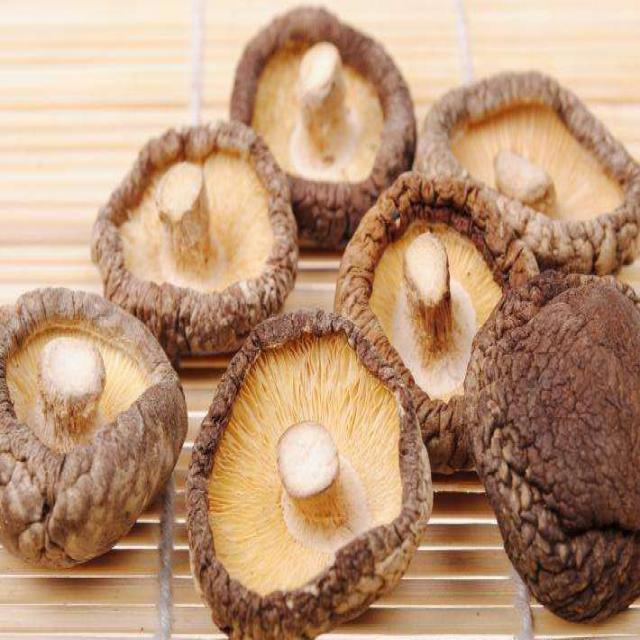Lentinus edodes: (190, 307, 432, 640), (463, 266, 640, 620), (339, 171, 540, 459), (0, 288, 189, 558), (92, 122, 297, 355), (420, 68, 640, 283), (230, 6, 418, 239)
